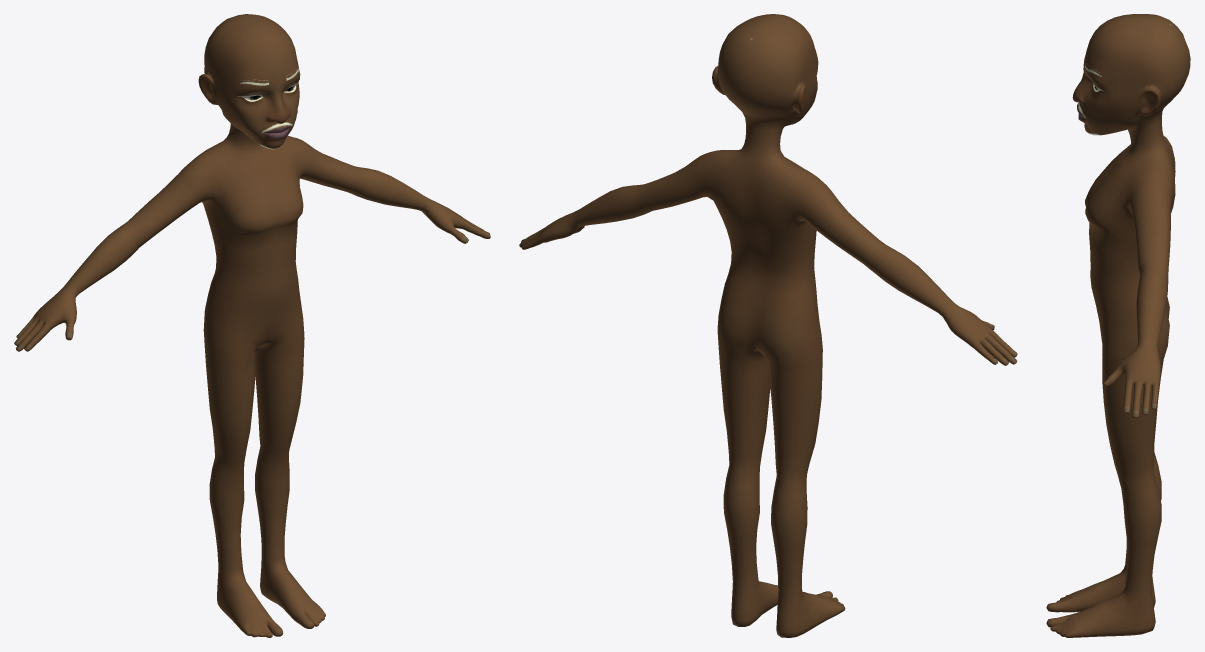
Rendered from frame_0045.glb.
3 views of the same model, side by side, from view 1: azimuth 30°, elevation 25°; view 2: azimuth 150°, elevation 25°; view 3: azimuth 270°, elevation 25° (orthographic). The views are drawn at different scales.
Parts seen in each view (by area): view 1: frame_0045_head_geo; view 2: frame_0045_head_geo; view 3: frame_0045_head_geo.
Part boxes in pixels (x1,y1,x2,y2): frame_0045_head_geo: (14,14,490,637); frame_0045_head_geo: (519,14,1017,637); frame_0045_head_geo: (1046,14,1190,637).
Size of the model in its own units: 1.28 by 1.5 by 0.3253.
3 materials, 3 textured.
